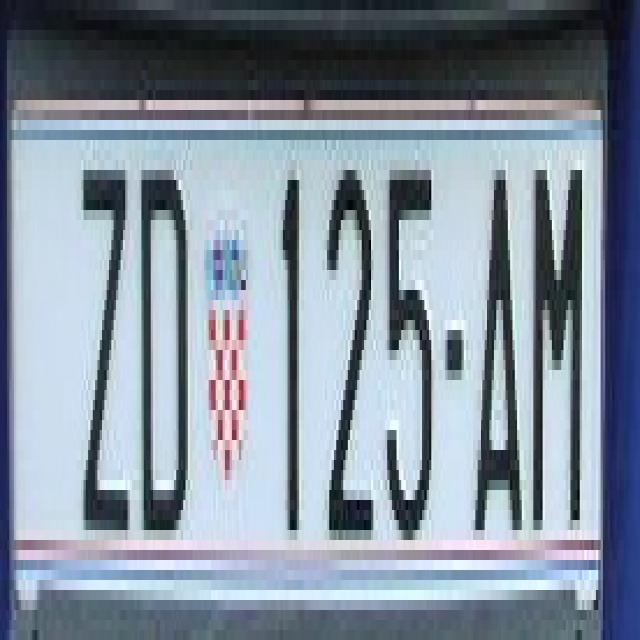1: (276, 150, 315, 550)
2: (332, 150, 376, 550)
5: (385, 130, 441, 540)
A: (475, 170, 522, 540)
D: (135, 150, 190, 530)
M: (529, 150, 584, 520)
Z: (83, 150, 130, 530)
